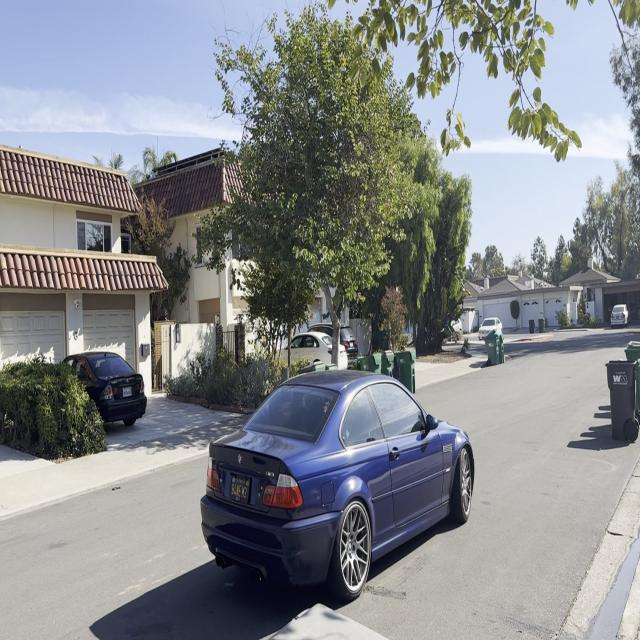Carbeetle: (194, 378, 476, 602)
Civilian: (53, 346, 148, 436), (275, 328, 346, 373), (476, 312, 502, 346), (607, 301, 630, 329), (344, 332, 362, 362)
